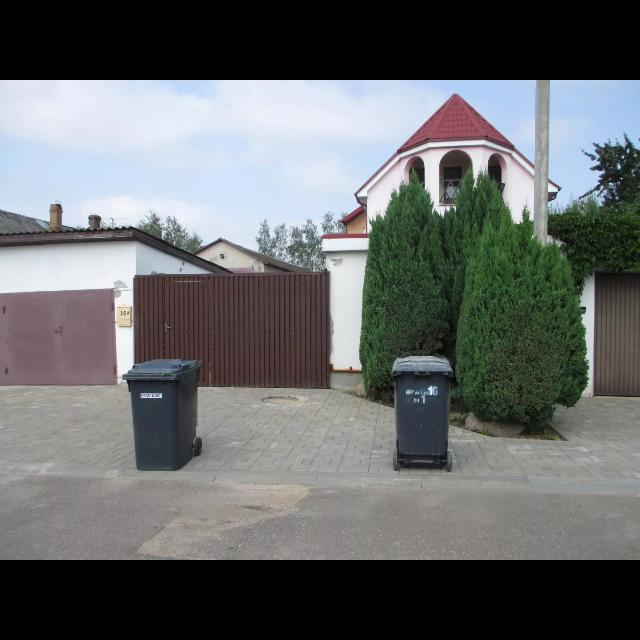Trash_Can_Closed: (122, 358, 203, 471), (393, 355, 453, 472)
